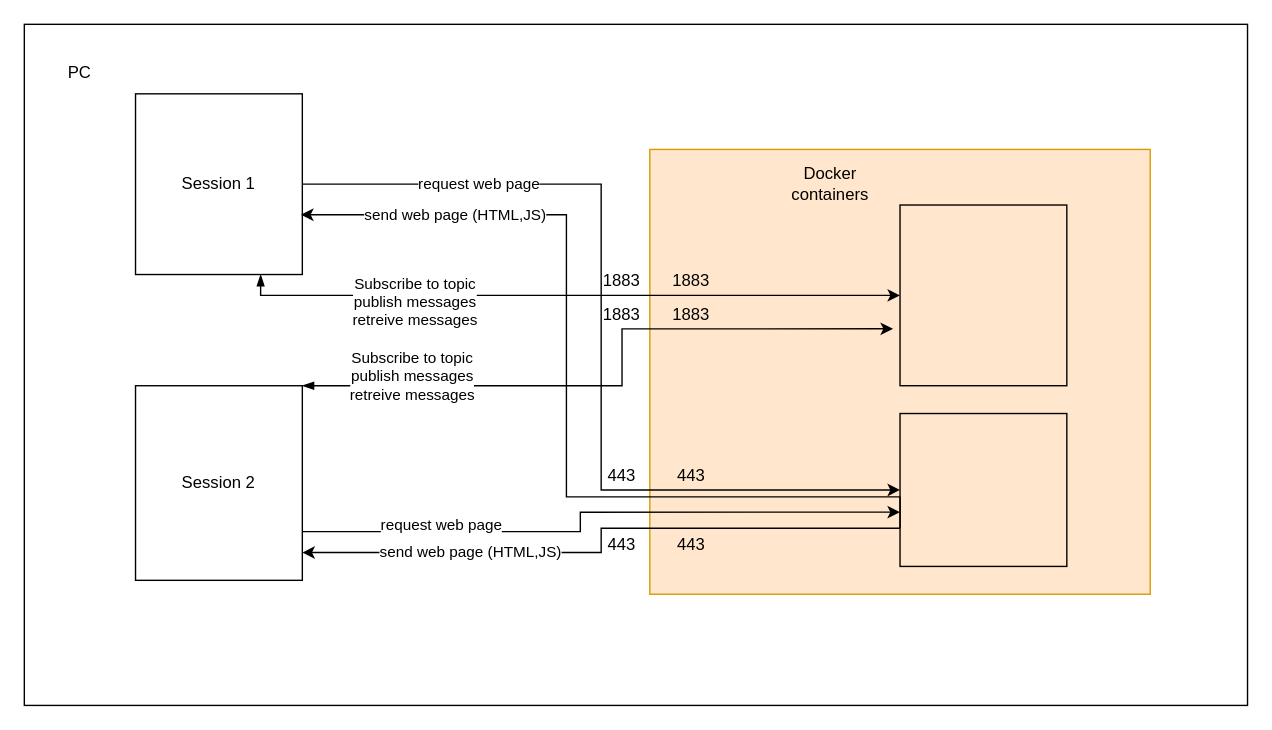
The diagram is 1272 pixels wide and 730 high, and some of its shapes have lost their labels. The shapes that lost their labels are listed below. From the top down, each one's centre as x and y in pixels, then its label:
At [983,295]: "MQTT server".
At [983,489]: "NGINX server".
